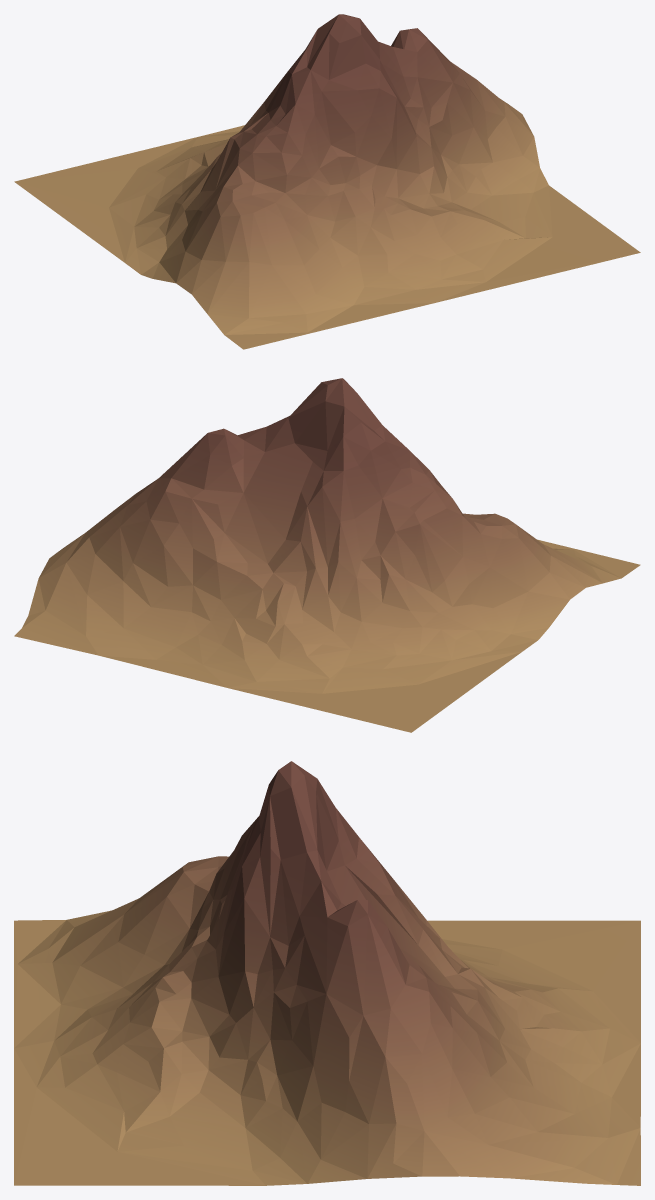
File: Mountains.fbx
3 views of the same model, one above another, from view 1: azimuth 30°, elevation 25°; view 2: azimuth 150°, elevation 25°; view 3: azimuth 270°, elevation 25° (orthographic). The views are drawn at different scales.
Visible parts, largest first — view 1: Landscape.001; view 2: Landscape.001; view 3: Landscape.001.
Part boxes in pixels (left/top/right/bottom): Landscape.001: left=14, top=14, right=640, bottom=349; Landscape.001: left=14, top=378, right=640, bottom=732; Landscape.001: left=14, top=761, right=640, bottom=1185.
Bounding box in the file's own units: 3711 × 1766 × 3443.
